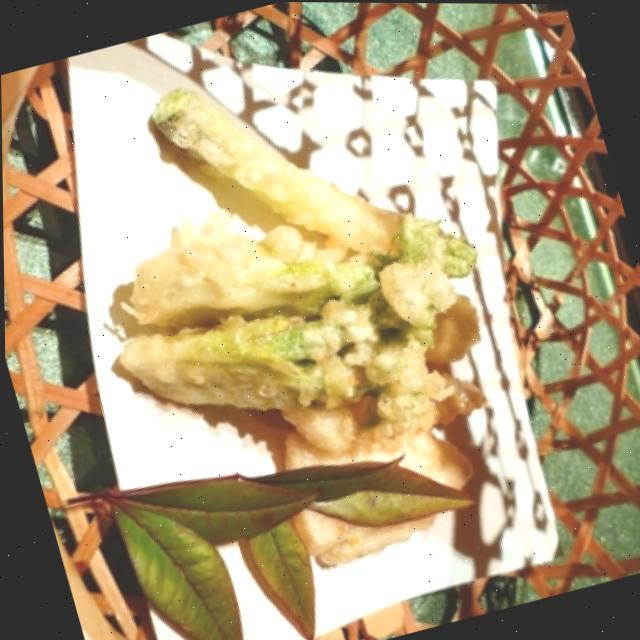蔬菜料理: (66, 19, 543, 583)
